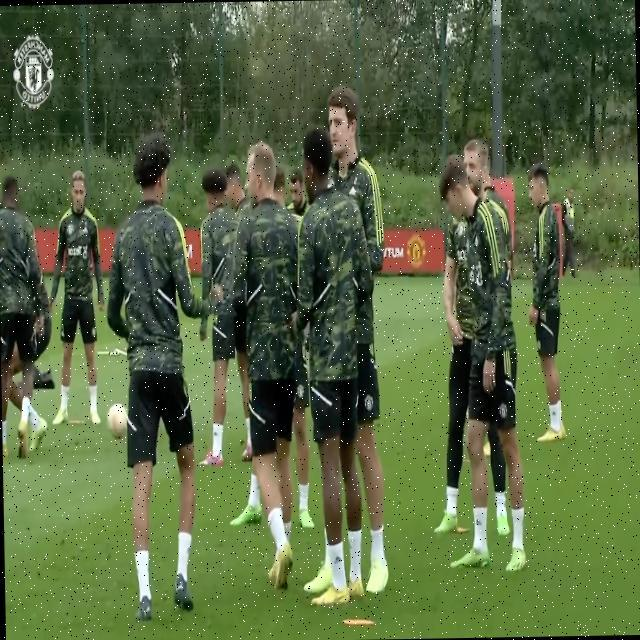Adidas: (332, 552, 342, 568), (475, 516, 483, 529)
